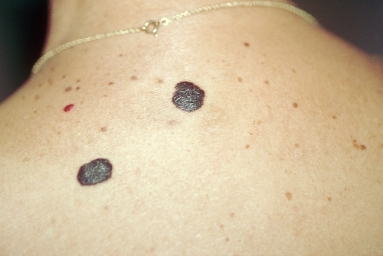seborrheic keratosis: (51, 76, 268, 192)
